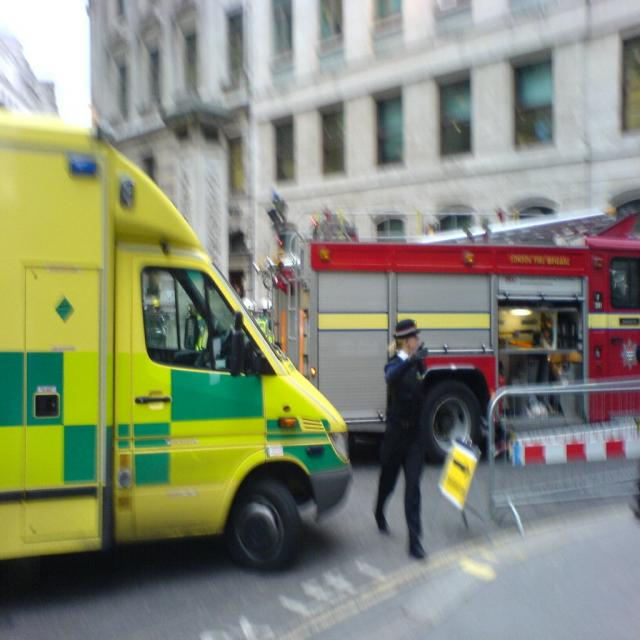Ambulance: (0, 105, 367, 620)
